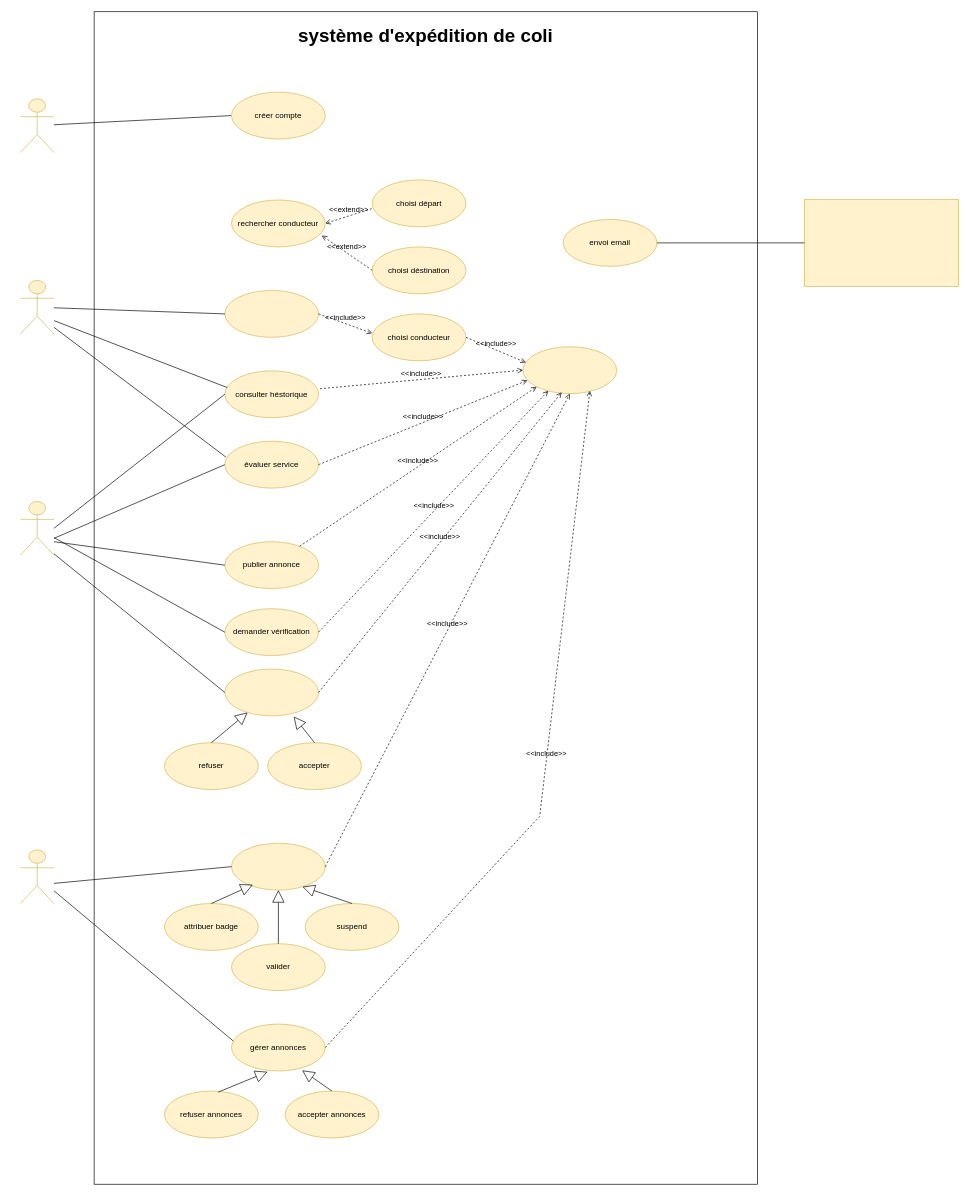
The diagram is 970 pixels wide and 1196 high, and some of its shapes have lost their labels. Here are the shapes that lost their labels. From the top down, the centre of each, then its label:
the point at 37,125: User
the point at 881,242: Emailing
the point at 37,307: Expéditeur
the point at 271,313: envoi demande
the point at 569,370: s'authenfier
the point at 37,528: Conducteur
the point at 271,692: gérer demande
the point at 37,876: Administrateur
the point at 278,866: gérer utilisateurs
